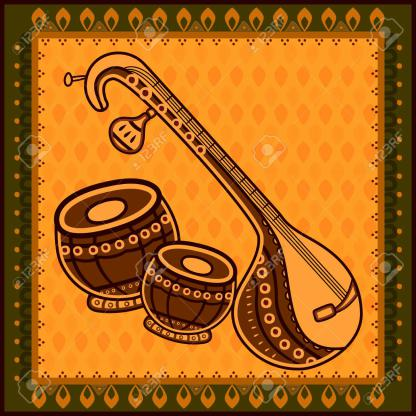Mridangam: (51, 175, 174, 321), (132, 237, 242, 343)
Veena: (222, 146, 366, 379)
